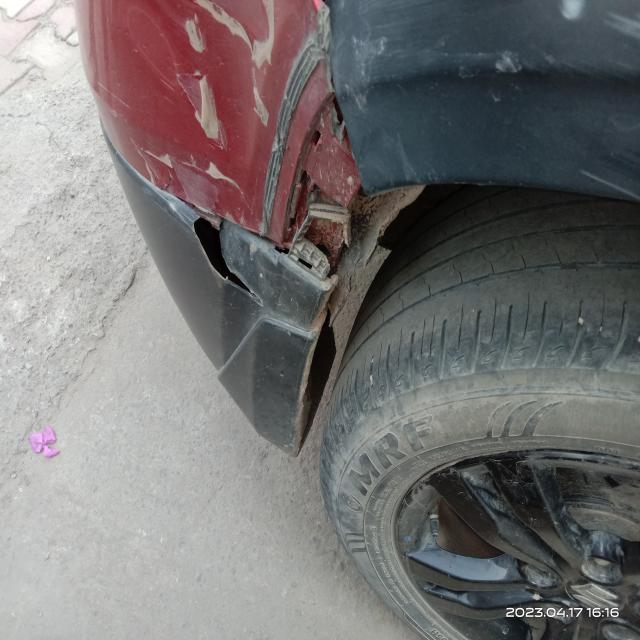damage: (137, 0, 305, 232), (159, 192, 324, 413), (271, 7, 386, 277)
